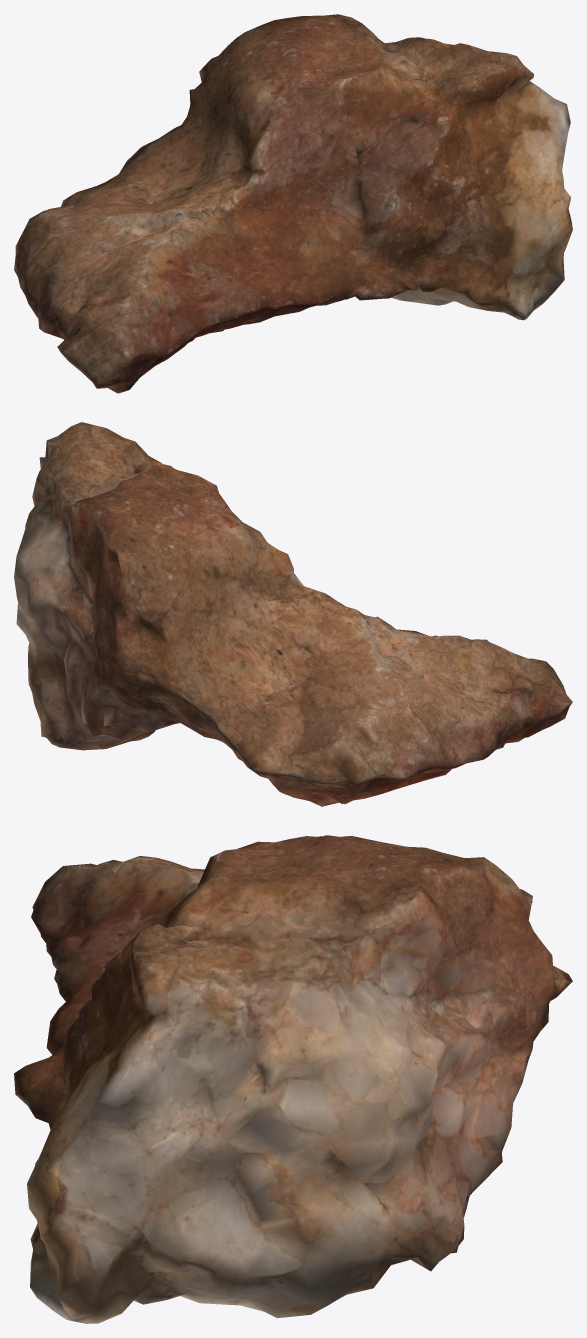
Rendered from stone_01.glb.
The picture shows the model from 3 angles, top to bottom: view 1: azimuth 30°, elevation 25°; view 2: azimuth 150°, elevation 25°; view 3: azimuth 270°, elevation 25°; orthographic projection. The views are drawn at different scales.
Visible parts, largest first — view 1: stone_01; view 2: stone_01; view 3: stone_01.
Boxes of the visible parts, x1,y1,x2,y2 form: stone_01: (14, 14, 572, 393); stone_01: (14, 422, 572, 806); stone_01: (14, 835, 572, 1323).
Bounding box in the file's own units: 0.147 × 0.0715 × 0.0891.
Materials: 1 (1 with a texture image).
